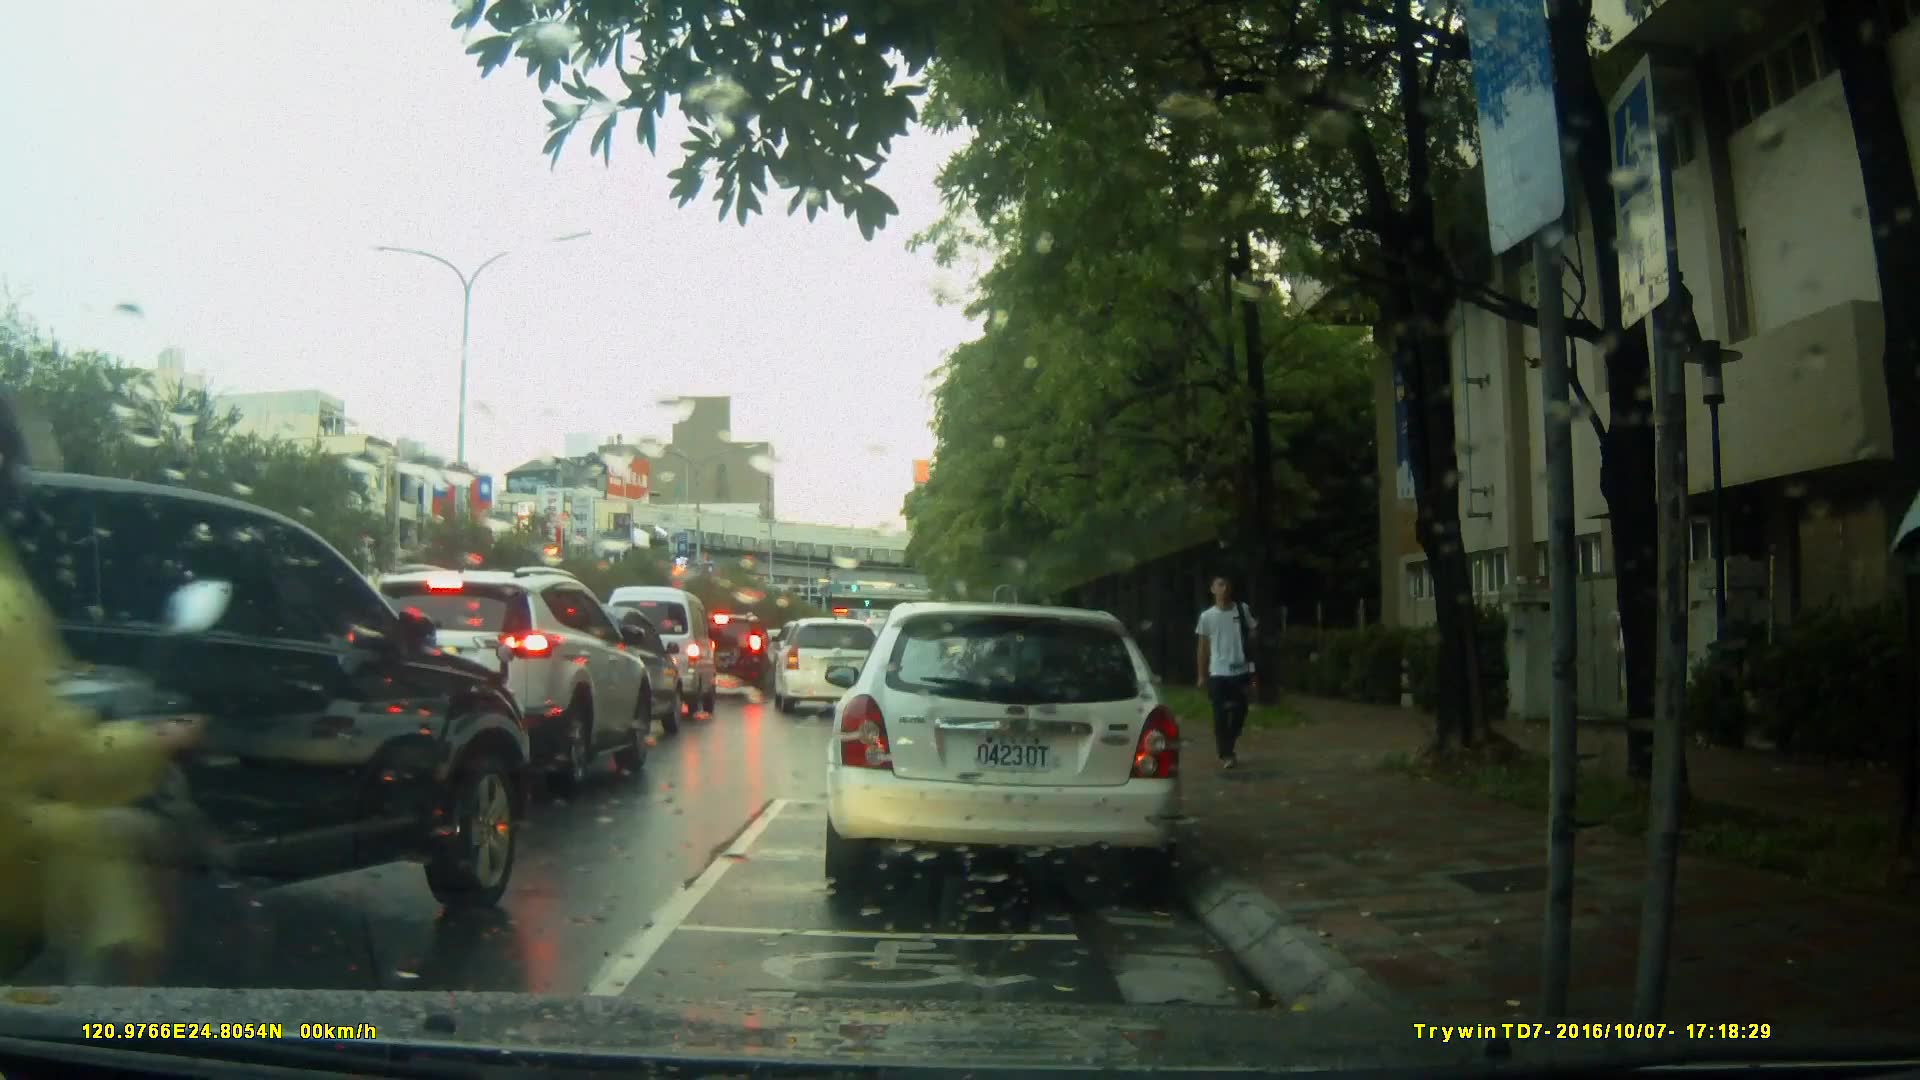pedestrian: (1191, 567, 1270, 786)
rider: (1, 385, 247, 1080)
vehicle: (1, 469, 532, 988), (820, 602, 1188, 898), (340, 563, 659, 791), (531, 603, 691, 737), (598, 585, 722, 722), (772, 617, 890, 715), (677, 611, 775, 704)
